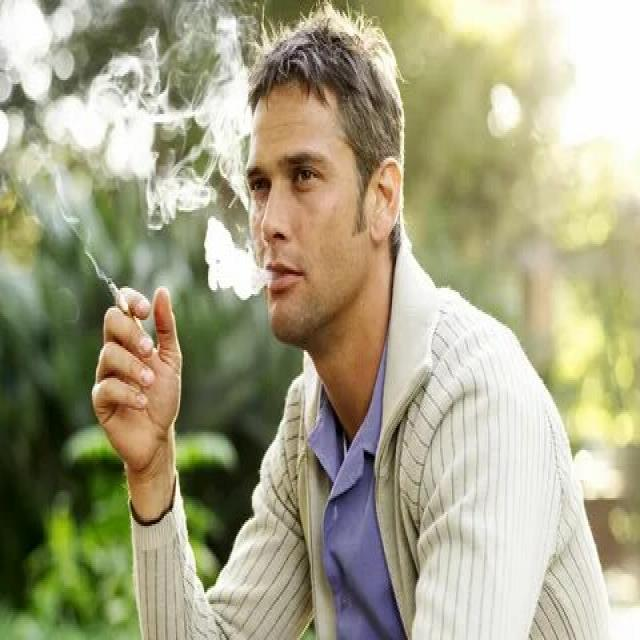smoke: (102, 268, 134, 322)
